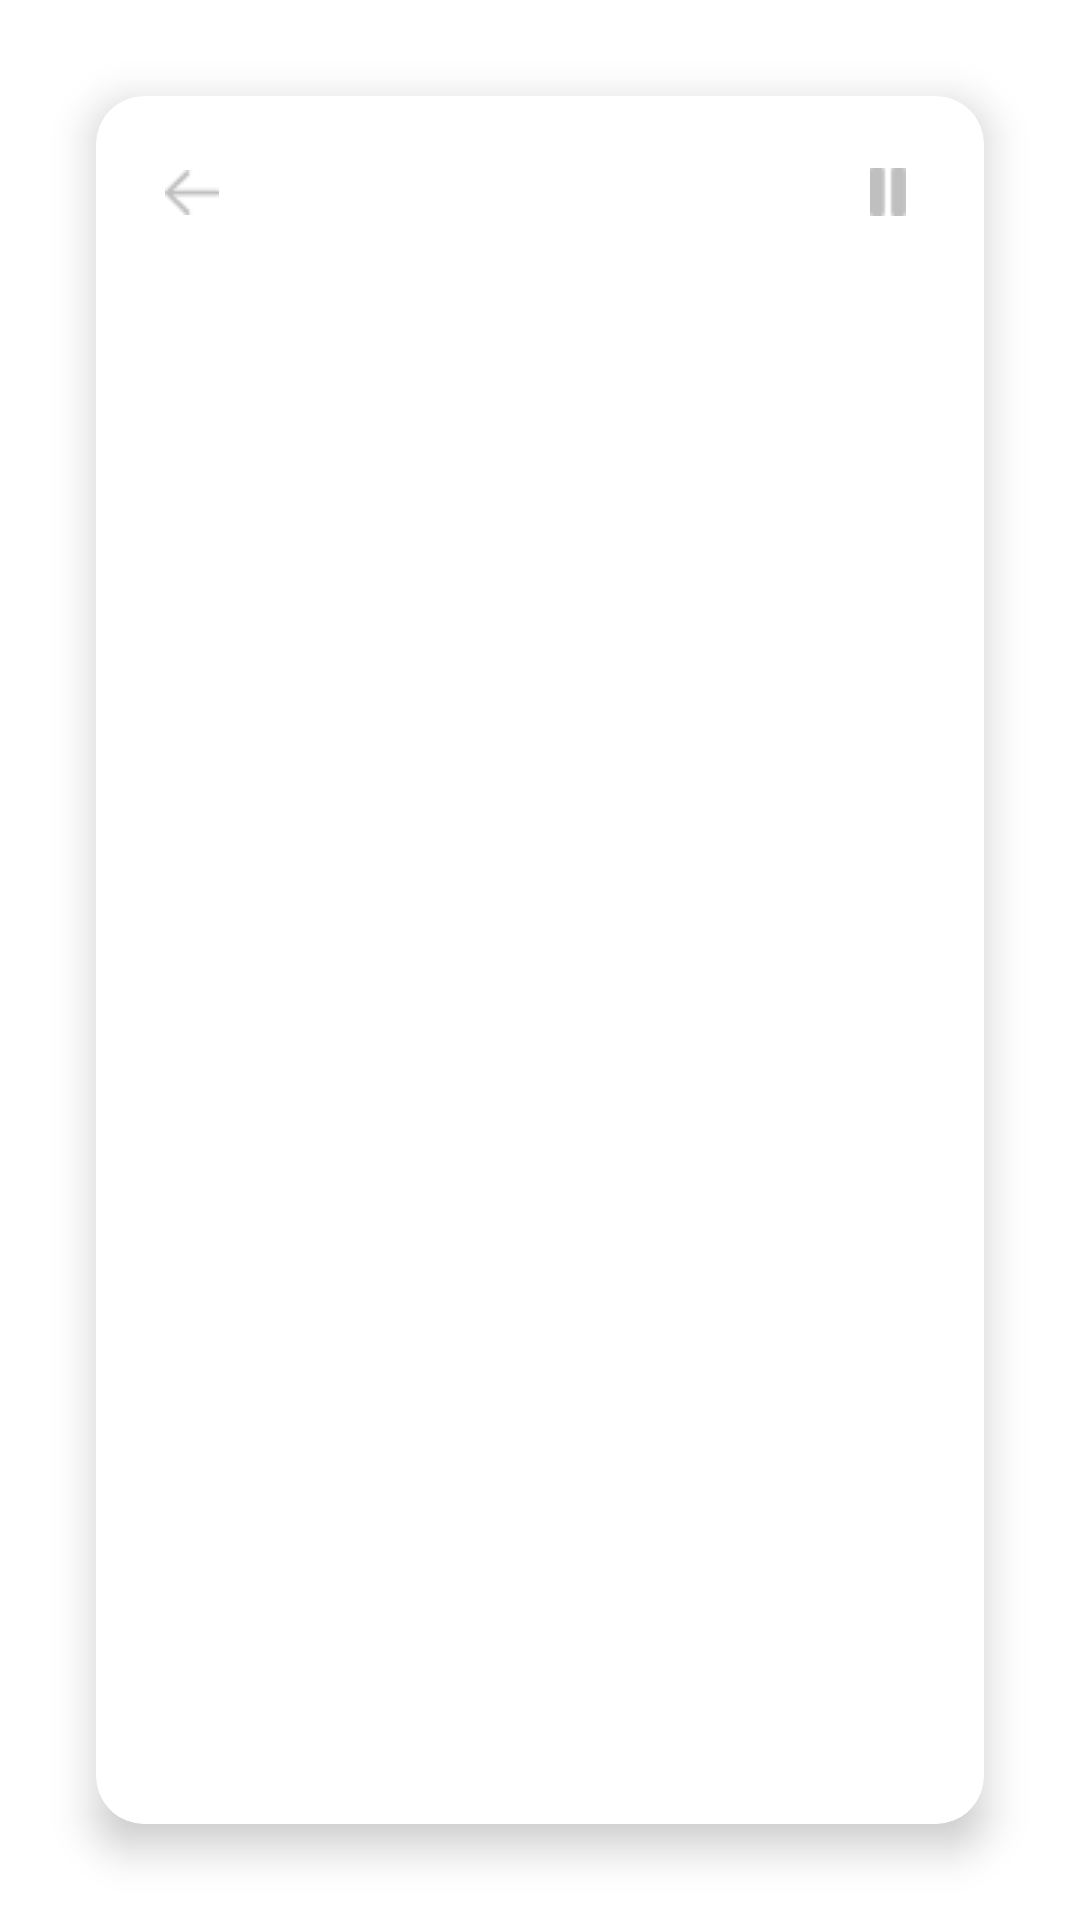

Icons on this 1080px×1920px Android screen, each with its box as [x1,y1,x2,y2]:
Back: [165,170,219,215]
Pause: [870,168,906,216]
